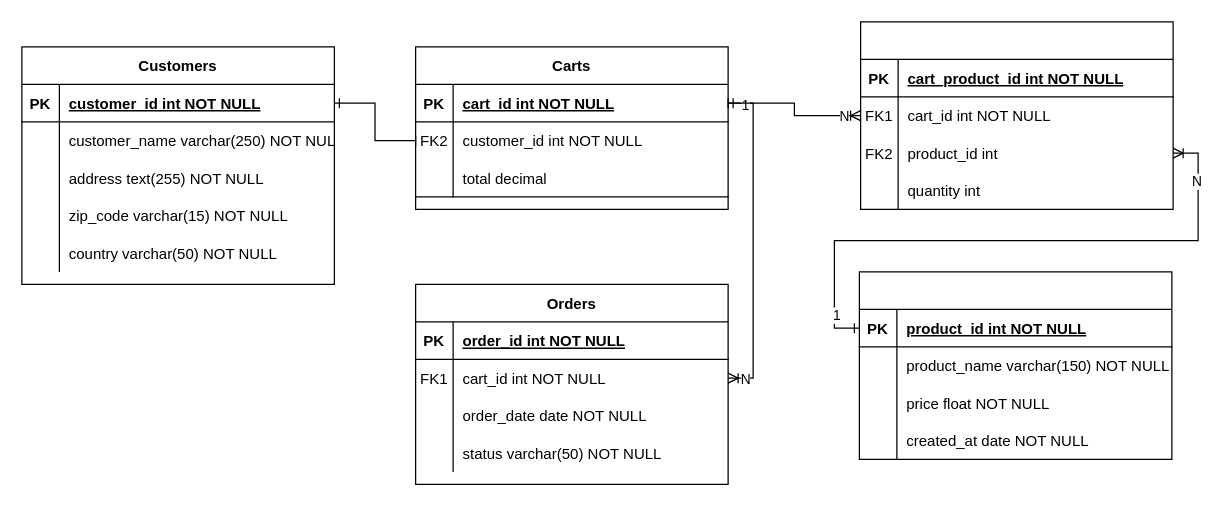
Some shapes in this 1231 by 506 pixel diagram are drawn without their labels. Here are the shapes that lost their labels. From the top down, the box of each, then its label:
(859, 21, 1173, 209): cart_products
(858, 271, 1172, 459): Products
